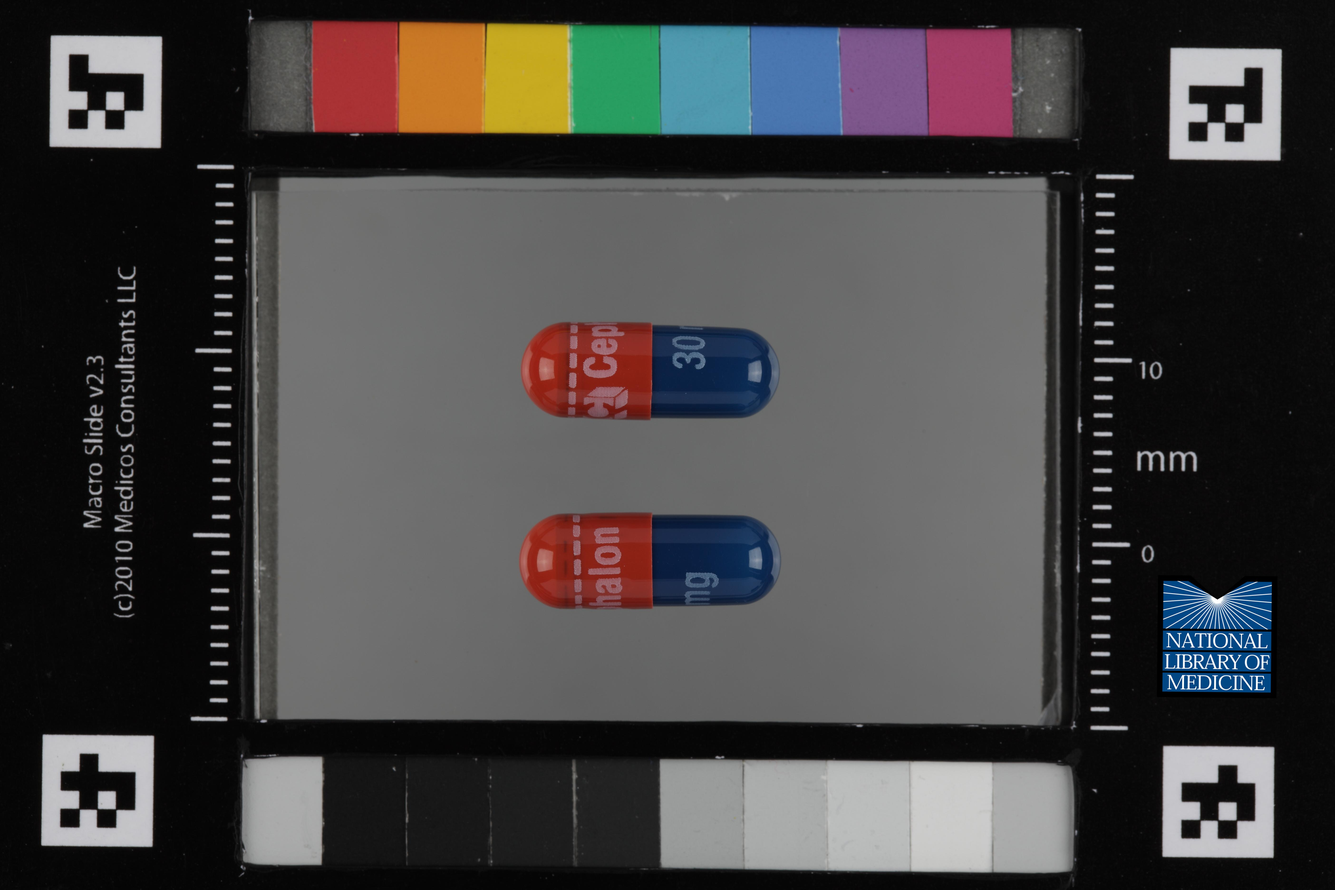Pill: (509, 499, 791, 619), (513, 311, 783, 431)
